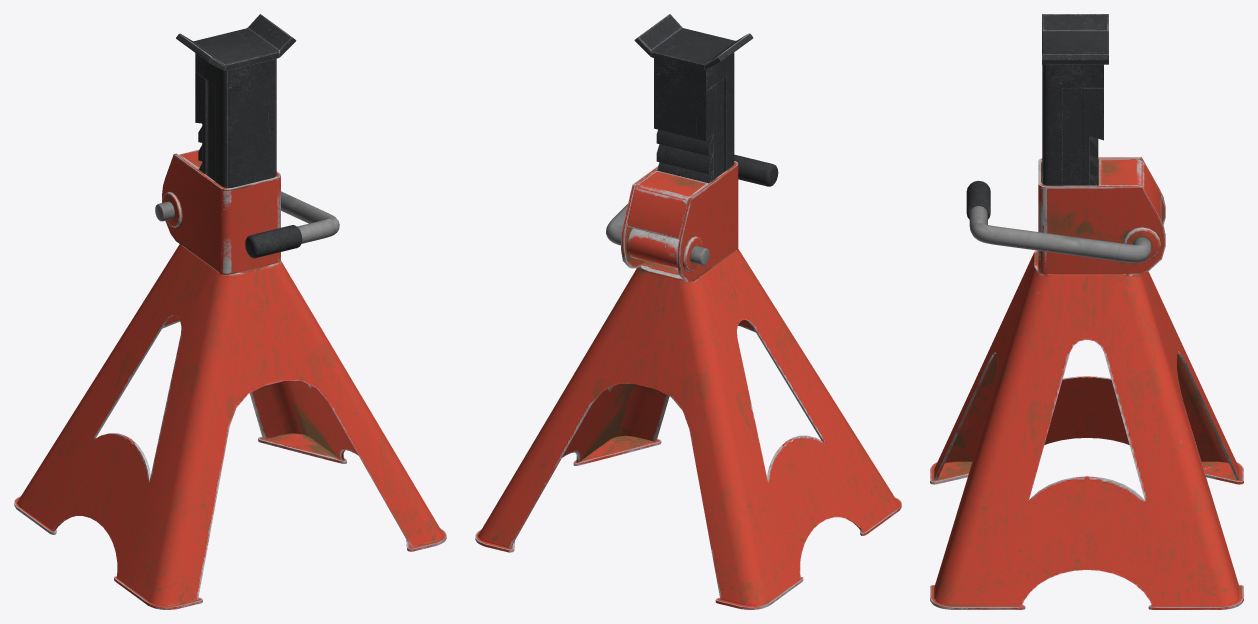
Rendered from wheel_chock.glb.
3 renders of one model, left to right at view 1: azimuth 30°, elevation 25°; view 2: azimuth 150°, elevation 25°; view 3: azimuth 270°, elevation 25°, orthographic. The views are drawn at different scales.
Visible parts, largest first — view 1: Base, Shaft, Bracket, Plates, Arm, Handle; view 2: Base, Shaft, Bracket, Plates, Cylinder, Handle, Arm; view 3: Base, Shaft, Bracket, Arm, Plates, Handle, Cylinder.
Part boxes in pixels (x1,y1,x2,y2): Base: [17, 244, 443, 606]; Shaft: [176, 14, 296, 187]; Bracket: [162, 150, 280, 275]; Plates: [14, 433, 446, 609]; Arm: [155, 191, 339, 243]; Handle: [245, 225, 302, 258]; Base: [478, 249, 898, 606]; Shaft: [634, 14, 753, 183]; Bracket: [621, 161, 738, 282]; Plates: [475, 435, 901, 609]; Cylinder: [626, 228, 702, 271]; Handle: [734, 154, 778, 186]; Arm: [606, 204, 709, 265]; Base: [934, 250, 1239, 606]; Shaft: [1042, 14, 1108, 185]; Bracket: [1038, 157, 1165, 274]; Arm: [969, 206, 1151, 262]; Plates: [930, 461, 1243, 609]; Handle: [966, 180, 990, 219]; Cylinder: [1123, 227, 1160, 261].
Bounding box in the file's own units: 1.28 × 2.02 × 1.15.
Materials: 3 (3 with a texture image).
